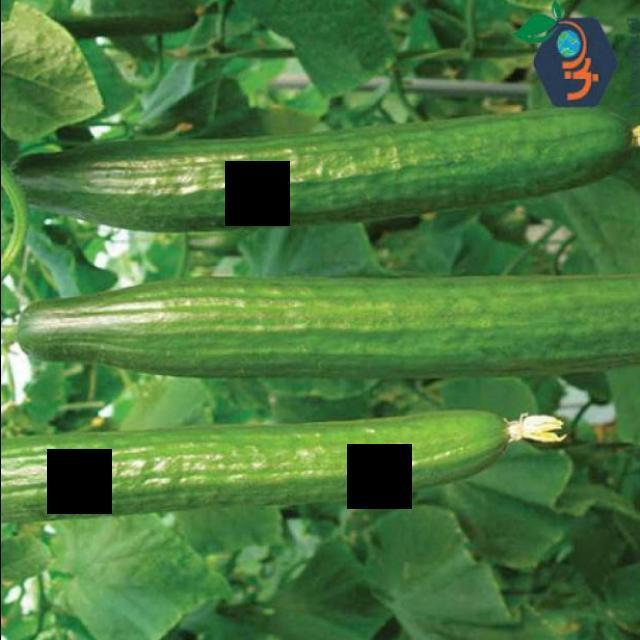cucumber: (6, 108, 634, 232), (10, 269, 640, 379), (0, 405, 513, 523)
